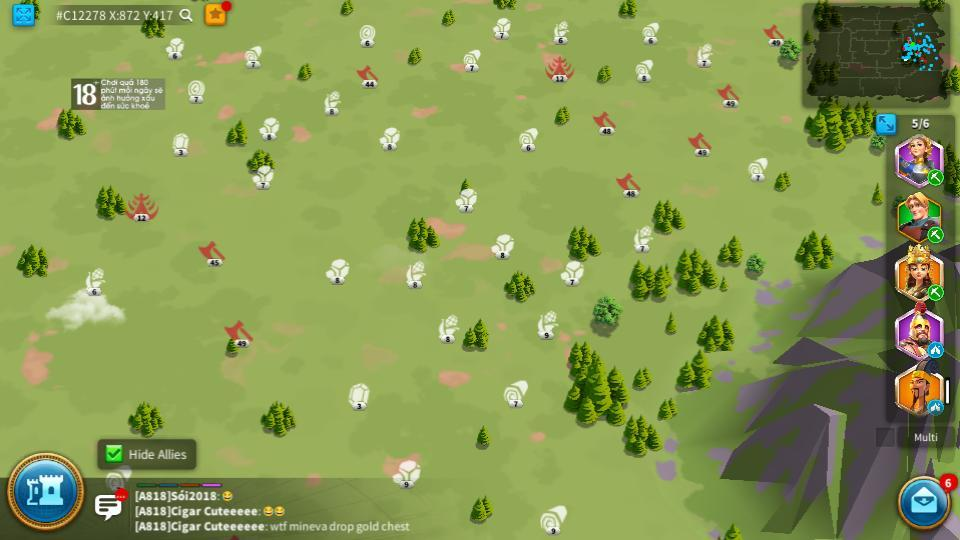gem-z-out: (346, 383, 371, 409), (170, 132, 189, 154)
march_idle: (927, 343, 944, 356), (928, 402, 942, 414), (918, 64, 932, 72)
march_marching: (927, 287, 944, 299), (928, 230, 942, 242), (929, 173, 941, 186)
